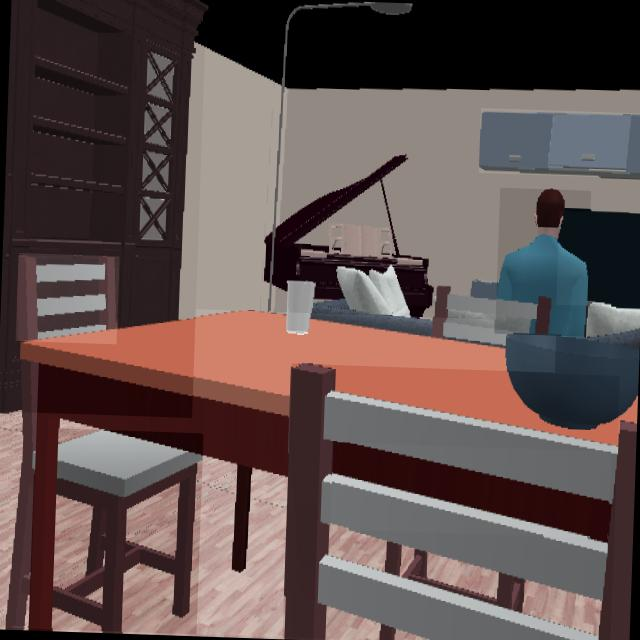cabinet: (479, 115, 640, 178)
chair: (284, 365, 616, 640), (53, 431, 202, 630), (6, 359, 38, 626), (18, 256, 117, 341)
monitor: (558, 211, 640, 306)
person: (496, 189, 587, 336)
table: (21, 311, 551, 628), (333, 442, 609, 537)
